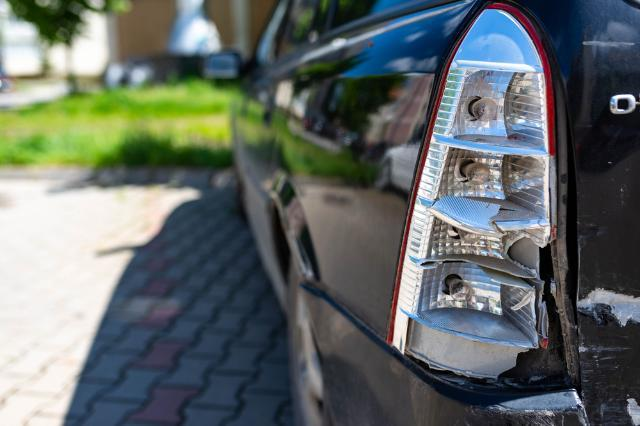lamp broken: (389, 4, 572, 389)
scratch: (577, 287, 640, 426)
